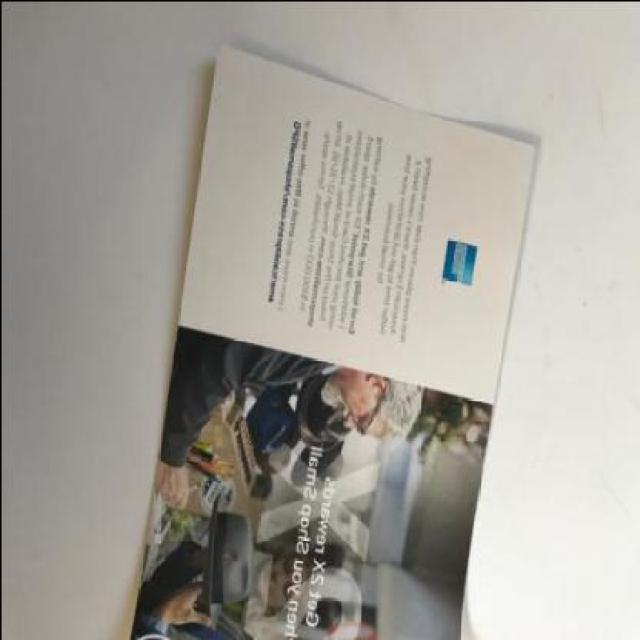PAPER: (128, 43, 537, 639)
